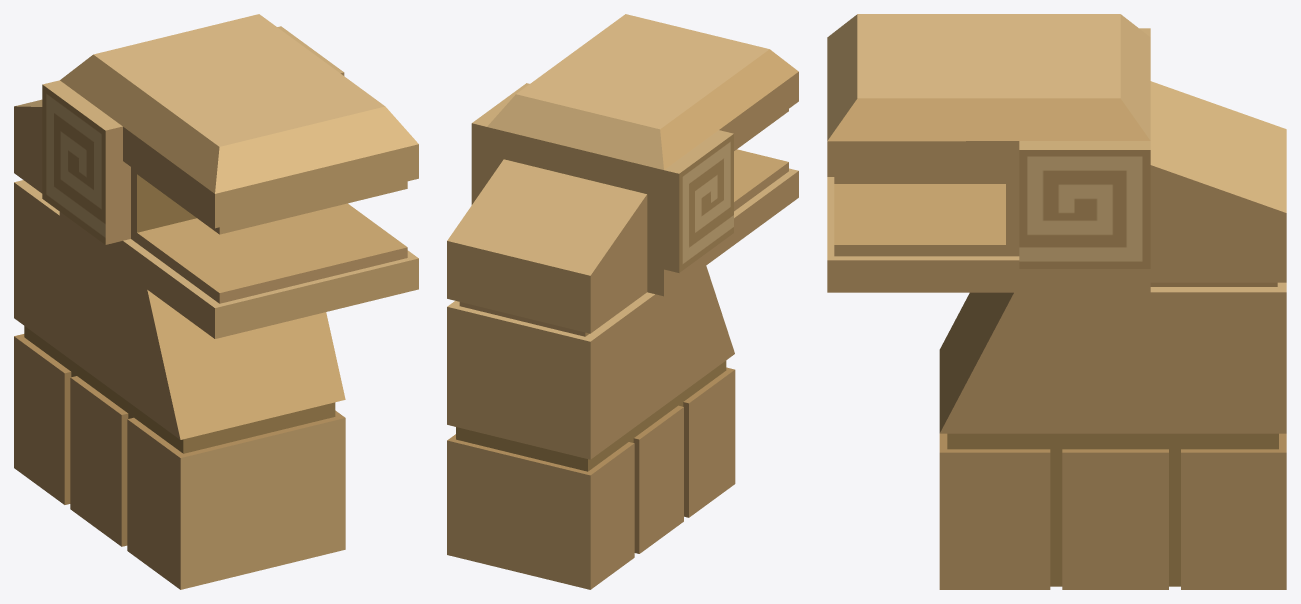
The model's file is ST_Prop_Statue_01.fbx.
3 renders of one model, left to right at view 1: azimuth 30°, elevation 25°; view 2: azimuth 150°, elevation 25°; view 3: azimuth 270°, elevation 25°, orthographic. The views are drawn at different scales.
Visible parts, largest first — view 1: ST_Prop_Statue_01; view 2: ST_Prop_Statue_01; view 3: ST_Prop_Statue_01.
Part boxes in pixels (x1,y1,x2,y2): ST_Prop_Statue_01: [14, 14, 418, 589]; ST_Prop_Statue_01: [447, 14, 798, 589]; ST_Prop_Statue_01: [827, 14, 1286, 589].
Bounding box in the file's own units: 0.9841 × 1.86 × 1.57.
